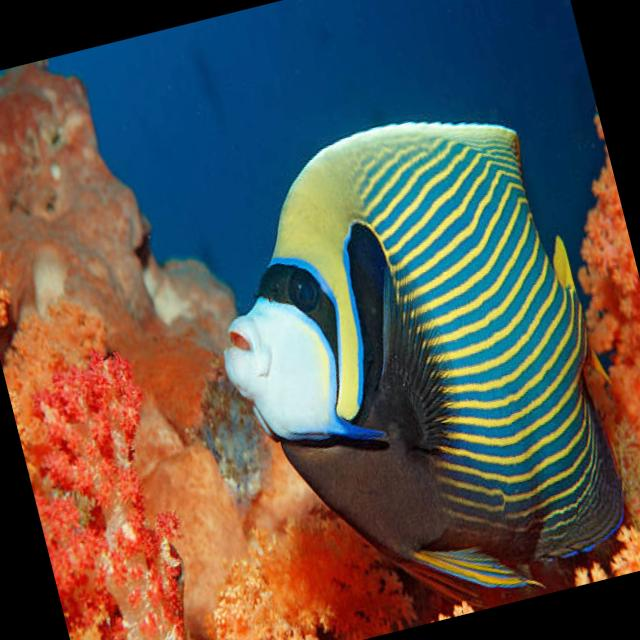AngelFish: (179, 86, 640, 635)
